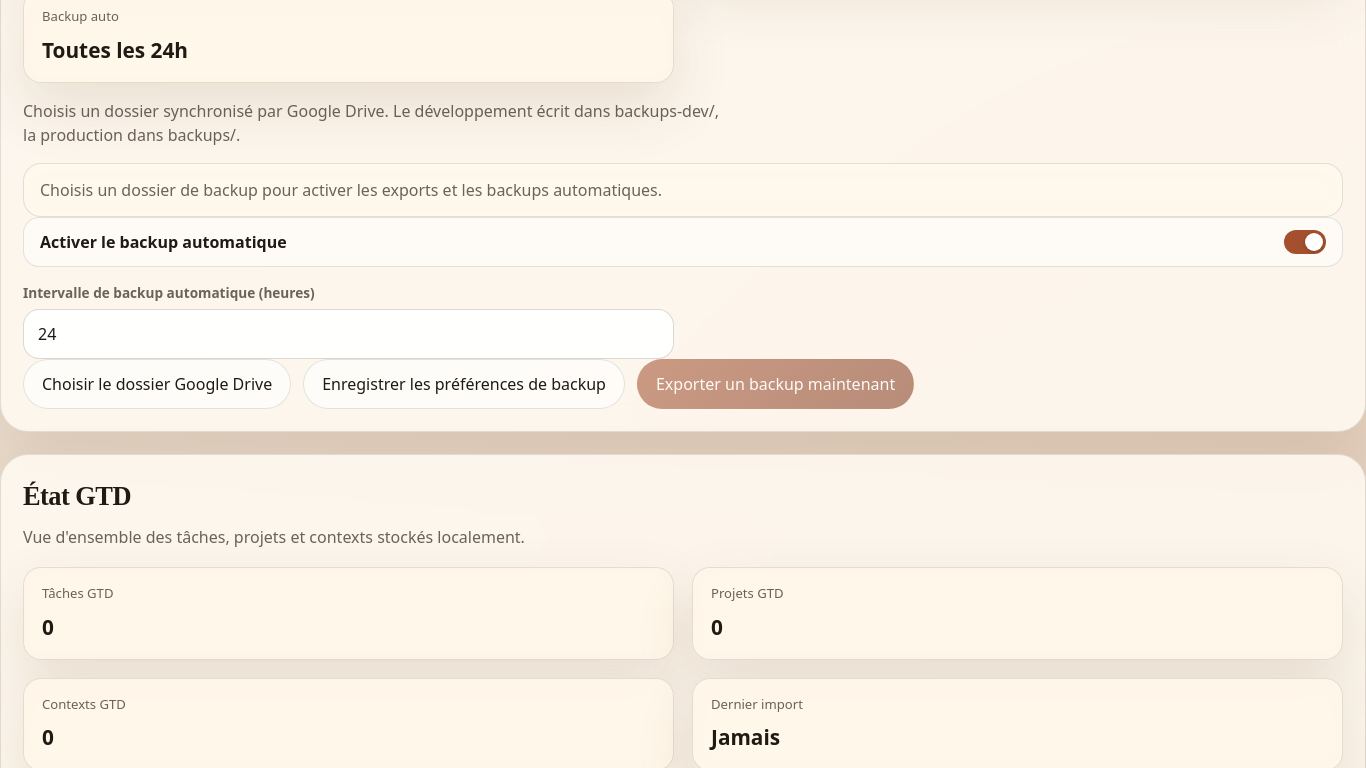
Test: SettingsPage backup destination › saves a picked Google Drive folder from the native dialog
(page scrolled)
Click the button "Choisir le dossier Google Drive". click: {"x": 157, "y": 384}
box: [23,359,291,409]
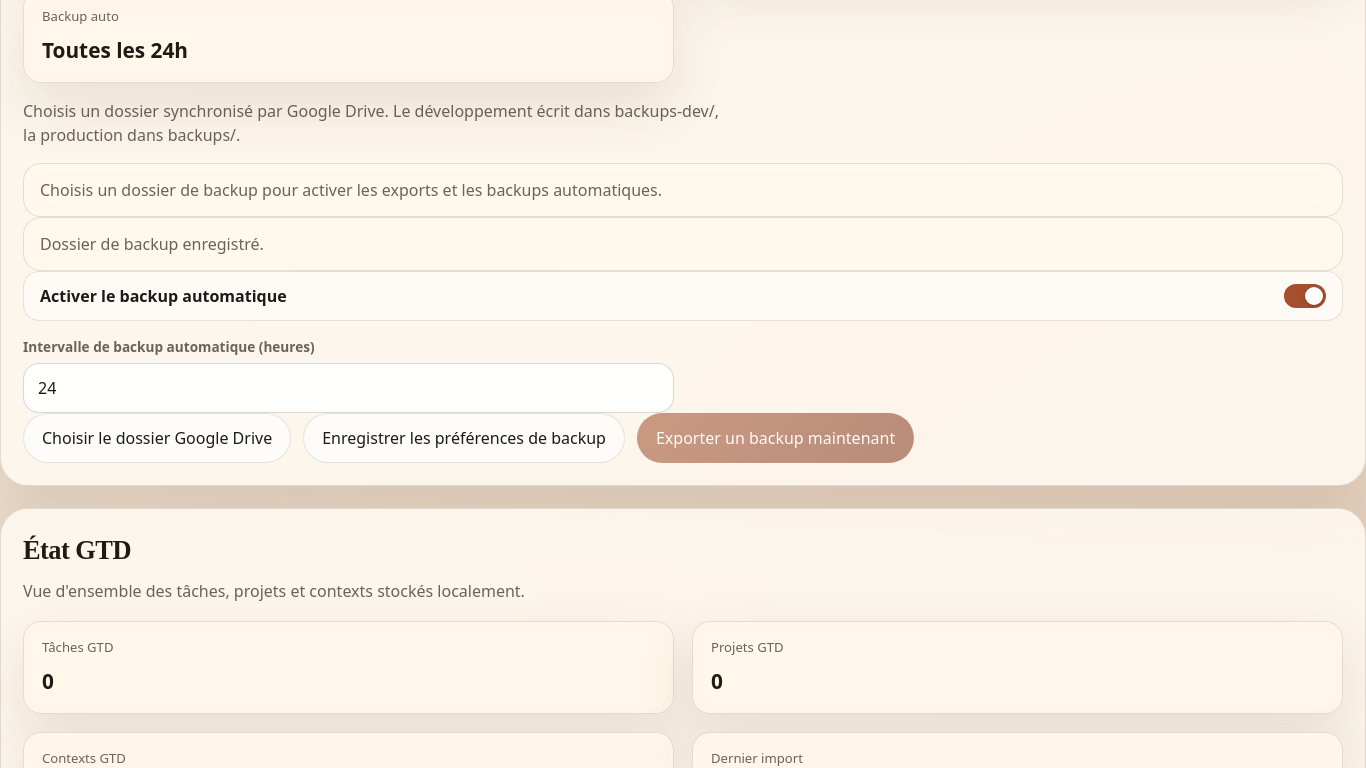
Expected: the text "Dossier de backup enregistré." is shown, [23,217,1343,271]
